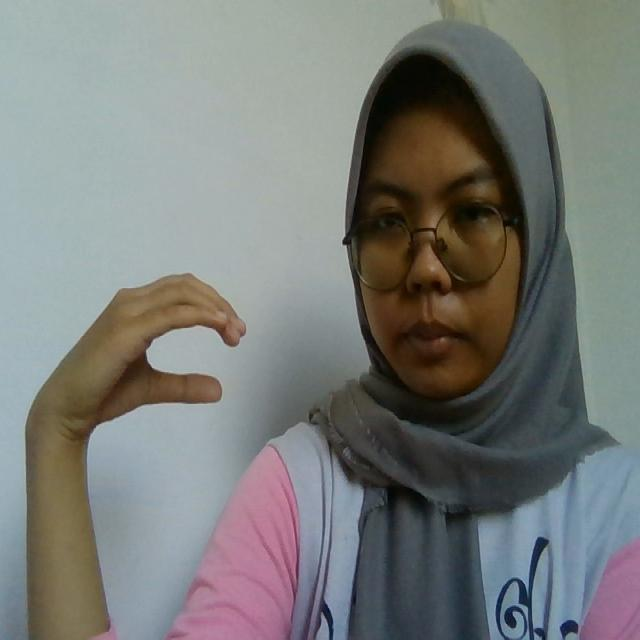C: (27, 272, 249, 425)
